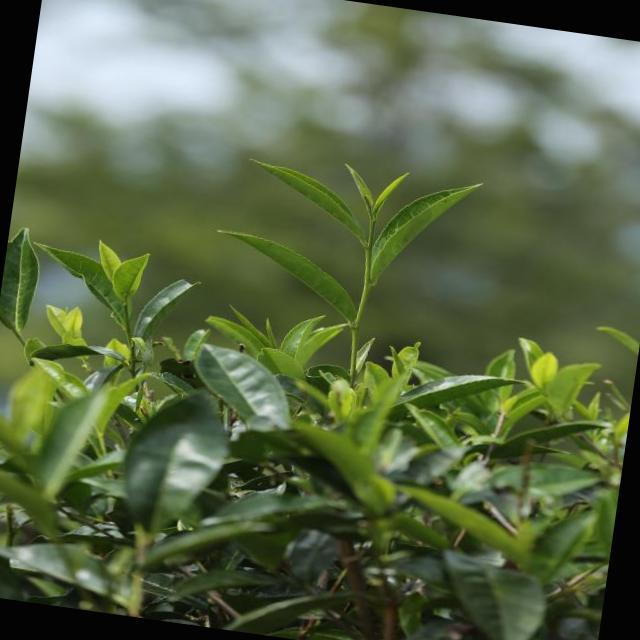Stem: (369, 218, 375, 225)
